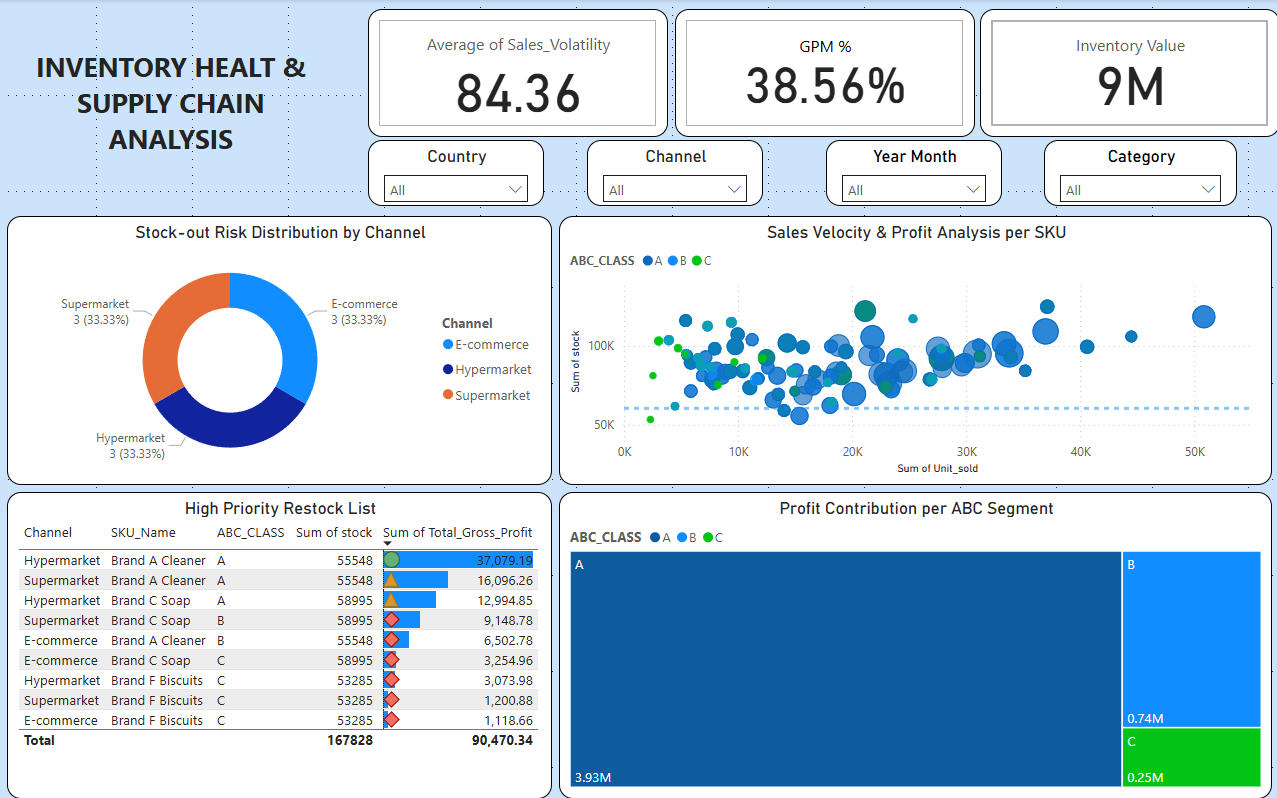

Layout of this report page (visuals, bound fields, positions):
{"tool":"powerbi","page":{"name":"Duplicate of   CHANNEL & CUSTOMER (Store) STRATEGIC","canvas":[1280,800],"ordinal":3},"visuals":[{"type":"cardVisual","fields":{"Data":["Avg(portofolio vw_abc_xyz_analysis.Sales_Volatility)"]},"box":[368,9.6,299.7,128],"z":0},{"type":"cardVisual","fields":{"Data":["measure.GPM %"]},"box":[675.2,9.7,299.9,128.4],"z":1000},{"type":"cardVisual","fields":{"Data":["measure.Inventory Value 2"]},"box":[980.3,9.6,299.7,128],"z":2000},{"type":"textbox","box":[7.5,9.6,327.5,155.7],"z":3000},{"type":"slicer","title":"Category","fields":{"Values":["portofolio vw_enriched_sales.Category"]},"box":[1044.3,140.8,193.1,66.1],"z":4000},{"type":"slicer","title":"Year Month","fields":{"Values":["DateTable.Year Month"]},"box":[825.6,140.8,176,66.1],"z":5000},{"type":"slicer","title":"Channel","fields":{"Values":["portofolio vw_abc_xyz_analysis.Channel"]},"box":[586.7,140.8,176,66.1],"z":6000},{"type":"slicer","title":"Country","fields":{"Values":["portofolio vw_enriched_sales.country"]},"box":[368,140.8,176,66.1],"z":7000},{"type":"treemap","title":"Profit Contribution per ABC Segment","fields":{"Group":["portofolio vw_abc_xyz_analysis.ABC_CLASS"],"Values":["Sum(portofolio vw_abc_xyz_analysis.Total_Gross_Profit)"]},"box":[559.5,493.4,713.3,306.6],"z":8000},{"type":"scatterChart","title":"Sales Velocity & Profit Analysis per SKU","fields":{"X":["Sum(portofolio vw_enriched_sales.Unit_sold)"],"Y":["Sum(portofolio vw_enriched_sales.stock)"],"Category":["portofolio vw_enriched_sales.SKU_Name"],"Size":["Sum(portofolio vw_enriched_sales.Gross_profit)"],"Series":["portofolio vw_abc_xyz_analysis.ABC_CLASS"]},"box":[559.5,216.8,713.3,269.4],"z":9000},{"type":"tableEx","title":"High Priority Restock List","fields":{"Values":["portofolio vw_abc_xyz_analysis.Channel","portofolio vw_abc_xyz_analysis.SKU_Name","portofolio vw_abc_xyz_analysis.ABC_CLASS","Sum(portofolio vw_enriched_sales.stock)","Sum(portofolio vw_abc_xyz_analysis.Total_Gross_Profit)"]},"box":[7.2,493.4,545,306.6],"z":10000},{"type":"donutChart","title":"Stock-out Risk Distribution by Channel","fields":{"Category":["portofolio vw_abc_xyz_analysis.ABC_CLASS","portofolio vw_abc_xyz_analysis.Channel"],"Y":["measure.Out of Stock Risk"]},"box":[7.2,216.8,545,269.4],"z":11000}]}

Visuals, with their boxes in screenshot pixels (x1, y1, x2, y2), scaled from the page's 1280x800 canvas onto the 1277x798 screenshot:
cardVisual - Avg(portofolio vw_abc_xyz_analysis.Sales_Volatility): bbox(367, 10, 666, 137)
cardVisual - measure.GPM %: bbox(674, 10, 973, 138)
cardVisual - measure.Inventory Value 2: bbox(978, 10, 1276, 137)
textbox: bbox(7, 10, 334, 165)
"Category" slicer: bbox(1042, 140, 1234, 206)
"Year Month" slicer: bbox(824, 140, 999, 206)
"Channel" slicer: bbox(585, 140, 761, 206)
"Country" slicer: bbox(367, 140, 543, 206)
"Profit Contribution per ABC Segment" treemap: bbox(558, 492, 1270, 797)
"Sales Velocity & Profit Analysis per SKU" scatterChart: bbox(558, 216, 1270, 485)
"High Priority Restock List" tableEx: bbox(7, 492, 551, 797)
"Stock-out Risk Distribution by Channel" donutChart: bbox(7, 216, 551, 485)
